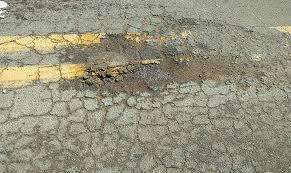alligator-crack: (43, 82, 220, 136), (76, 124, 223, 163), (19, 30, 87, 76), (97, 3, 171, 29)
